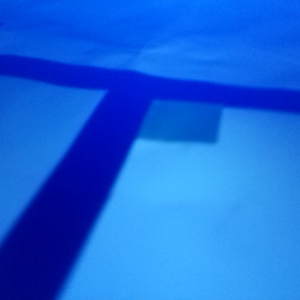bottom_right: (109, 82, 223, 143)
